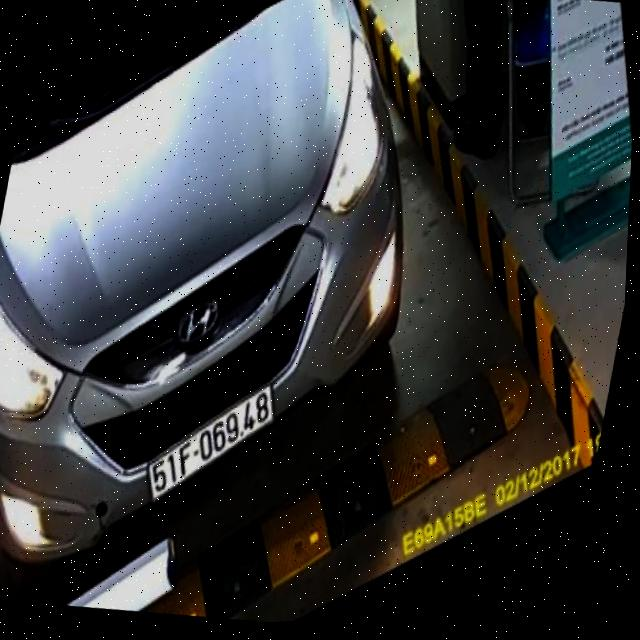car: (0, 0, 461, 614)
plate: (139, 368, 284, 524)
